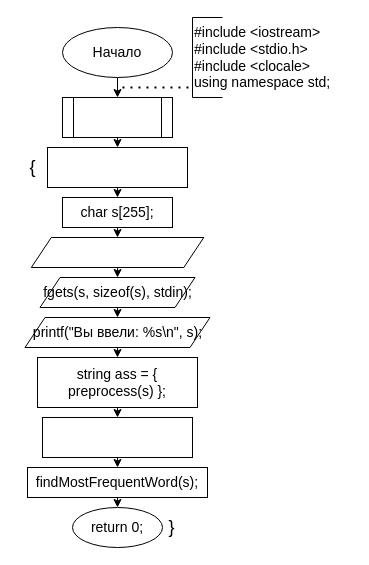
Some shapes in this 369 by 565 pixel diagram are drawn without their labels. The centre of each missing label's shape, as x and y in pixels:
int main(): point 117,117
printf("Введите строку: ");: point 117,252
setlocale(LC_ALL, "Russian");: point 117,167
strcpy_s(s, ass.c_str());: point 117,437
